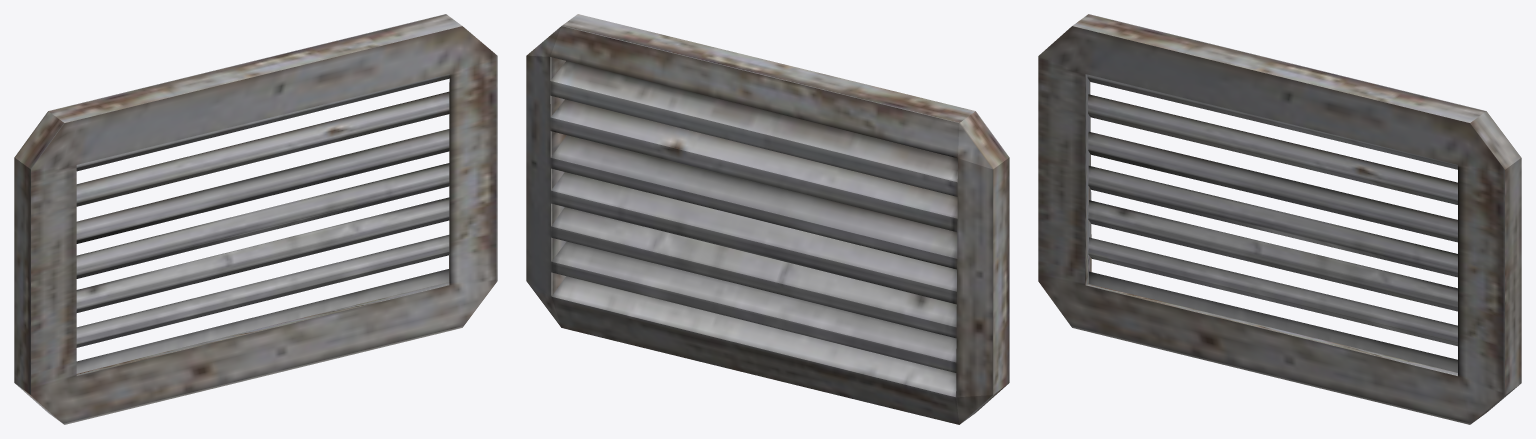
File: Air Ducts_Tapa.fbx
3 renders of one model, left to right at view 1: azimuth 30°, elevation 25°; view 2: azimuth 150°, elevation 25°; view 3: azimuth 330°, elevation 25°, orthographic.
Visible parts, largest first — view 1: Tapa; view 2: Tapa; view 3: Tapa.
Part boxes in pixels (box(x1,y1,x2,y2)): Tapa: box(14, 14, 497, 424); Tapa: box(526, 14, 1009, 424); Tapa: box(1038, 14, 1521, 424).
Bounding box in the file's own units: 59.13 × 36.55 × 4.38.
1 material, 1 textured.
